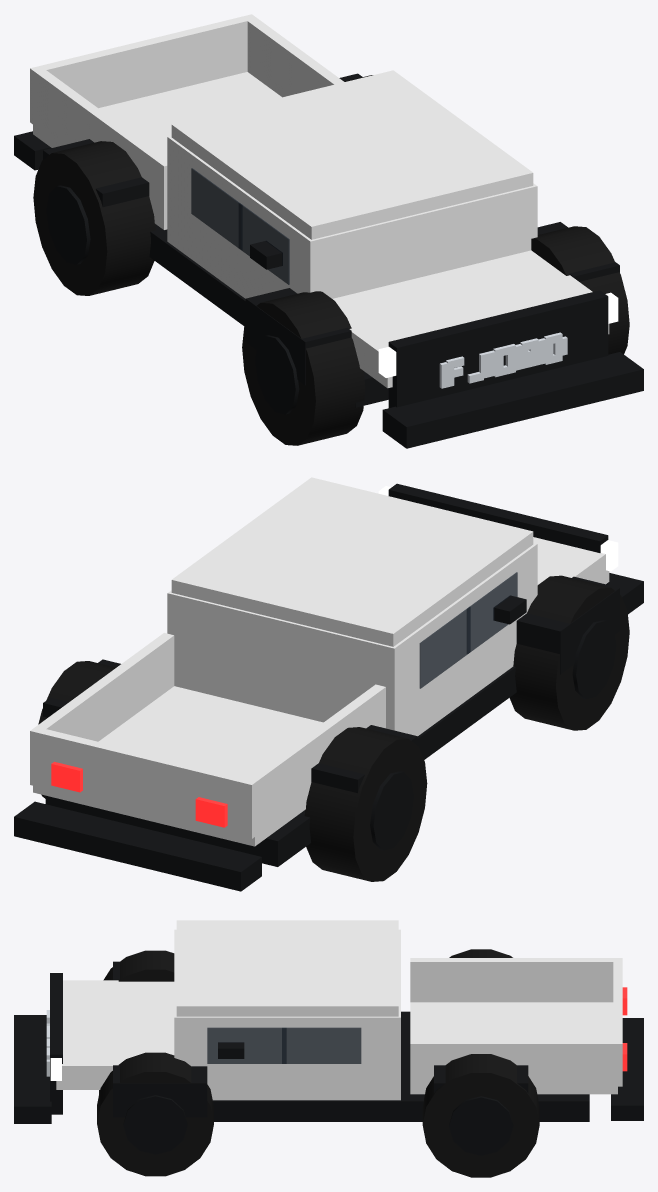
The model's file is fjord-razorback.glb.
3 renders of one model, top to bottom at view 1: azimuth 30°, elevation 25°; view 2: azimuth 150°, elevation 25°; view 3: azimuth 270°, elevation 25°, orthographic. The views are drawn at different scales.
Visible parts, largest first — view 1: chassis, wheel-back-left, wheel-front-left, wheel-front-right; view 2: chassis, wheel-back-left, wheel-front-left, wheel-back-right; view 3: chassis, wheel-back-right, wheel-front-right, wheel-front-left, wheel-back-left.
Boxes of the visible parts, left/top/right/bottom form: chassis: left=14, top=14, right=643, bottom=448; wheel-back-left: left=33, top=141, right=155, bottom=295; wheel-front-left: left=242, top=291, right=365, bottom=445; wheel-front-right: left=531, top=226, right=629, bottom=354; chassis: left=14, top=477, right=643, bottom=891; wheel-back-left: left=304, top=727, right=427, bottom=881; wheel-front-left: left=509, top=575, right=629, bottom=730; wheel-back-right: left=38, top=661, right=115, bottom=798; chassis: left=14, top=920, right=643, bottom=1123; wheel-back-right: left=422, top=1054, right=539, bottom=1177; wheel-front-right: left=97, top=1052, right=213, bottom=1176; wheel-front-left: left=103, top=950, right=174, bottom=981; wheel-back-left: left=449, top=949, right=512, bottom=957.
Bounding box in the file's own units: 3.17 × 1.78 × 6.68.
